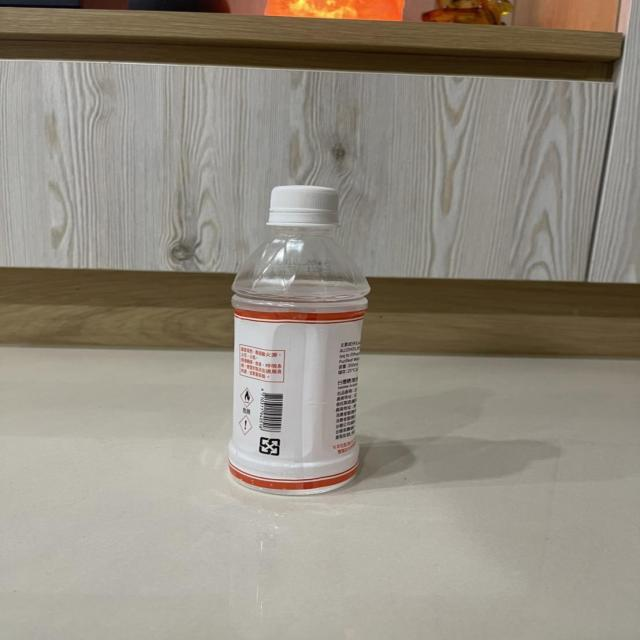bottle: (228, 180, 396, 503)
